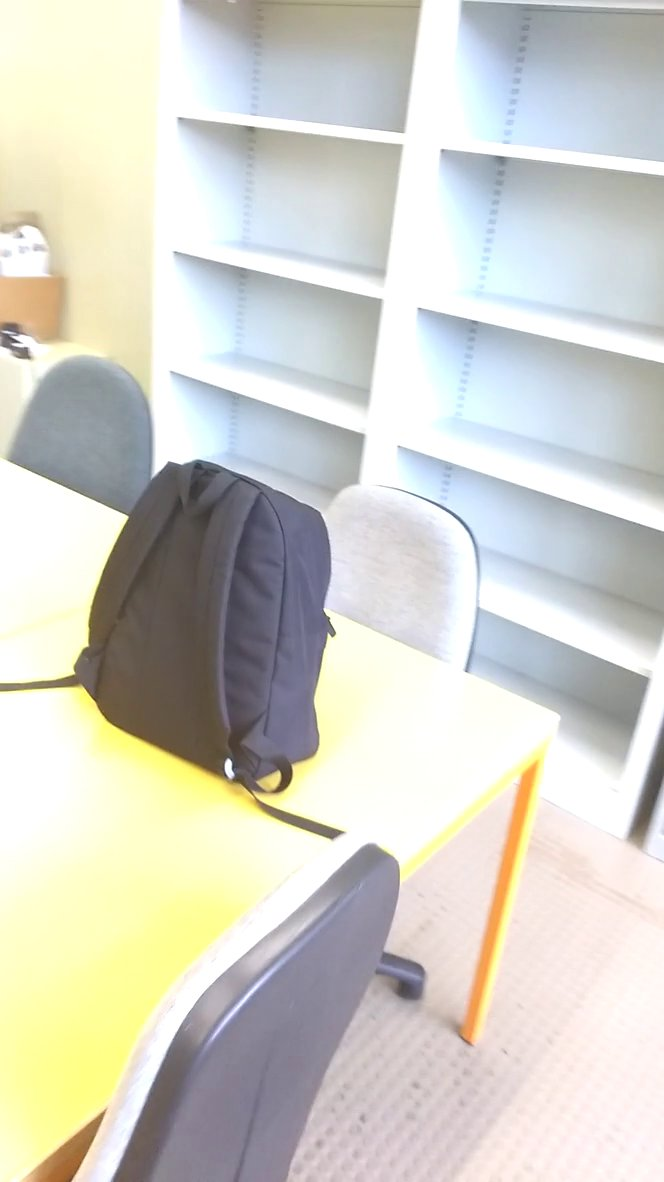bag: (71, 447, 343, 800)
chair: (53, 817, 412, 1182), (284, 452, 510, 700), (2, 344, 181, 552)
